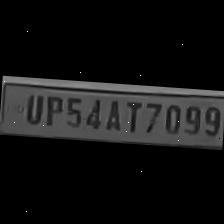0: (159, 99, 183, 133)
4: (82, 92, 102, 128)
5: (62, 91, 82, 127)
7: (140, 98, 162, 134)
9: (180, 100, 202, 135), (200, 102, 222, 136)
A: (100, 96, 122, 132)
P: (42, 90, 62, 126)
T: (121, 98, 141, 134)
U: (19, 90, 43, 124)
